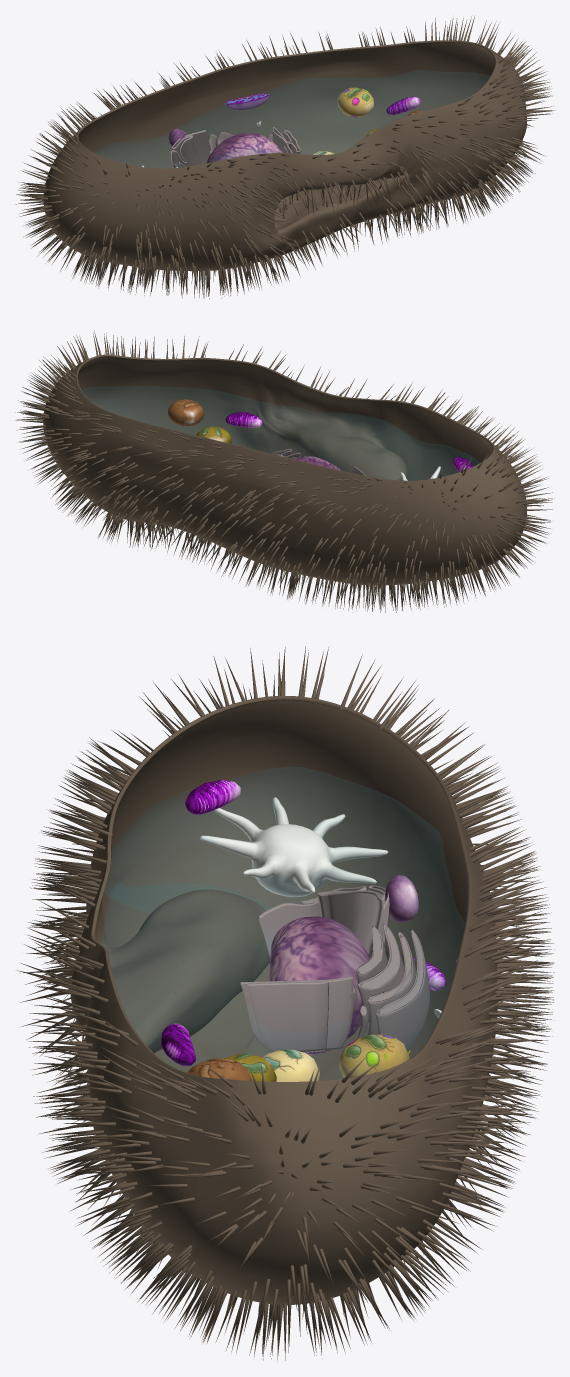
Rendered from optimized_paramecium.glb.
3 views of the same model, one above another, from view 1: azimuth 30°, elevation 25°; view 2: azimuth 150°, elevation 25°; view 3: azimuth 270°, elevation 25° (orthographic). The views are drawn at different scales.
Parts seen in each view (by area): view 1: pelikula, siller, pCube7, pasted__pasted__Amip_GER, macronukleus, besinKofulu1, Mitokondri6; view 2: pelikula, siller, pCube7, besinKofulu3, Mitokondri3, besinKofulu2; view 3: pelikula, siller, pCube7, pasted__pasted__Amip_GER, Kontraktil_Koful, pasted__Golgi_Aygıtı1, macronukleus, besinKofulu1, besinKofulu, Mitokondri7, micronukleus, Mitokondri3 (+1 smaller).
Boxes of the visible parts, x1=… form: pelikula: x1=43, y1=40, x2=526, y2=271; siller: x1=15, y1=16, x2=555, y2=299; pCube7: x1=95, y1=70, x2=489, y2=167; pasted__pasted__Amip_GER: x1=171, y1=127, x2=300, y2=167; macronukleus: x1=207, y1=132, x2=282, y2=163; besinKofulu1: x1=337, y1=87, x2=373, y2=117; Mitokondri6: x1=386, y1=96, x2=420, y2=114; pelikula: x1=43, y1=354, x2=527, y2=585; siller: x1=15, y1=330, x2=554, y2=612; pCube7: x1=82, y1=386, x2=479, y2=479; besinKofulu3: x1=167, y1=399, x2=204, y2=426; Mitokondri3: x1=225, y1=412, x2=262, y2=427; besinKofulu2: x1=196, y1=426, x2=231, y2=443; pelikula: x1=70, y1=695, x2=497, y2=1304; siller: x1=16, y1=646, x2=554, y2=1362; pCube7: x1=101, y1=767, x2=464, y2=1080; pasted__pasted__Amip_GER: x1=240, y1=885, x2=389, y2=1052; Kontraktil_Koful: x1=199, y1=797, x2=388, y2=897; pasted__Golgi_Aygıtı1: x1=349, y1=924, x2=429, y2=1049; macronukleus: x1=268, y1=916, x2=369, y2=1055; besinKofulu1: x1=339, y1=1034, x2=409, y2=1077; besinKofulu: x1=262, y1=1049, x2=319, y2=1081; Mitokondri7: x1=184, y1=780, x2=240, y2=814; micronukleus: x1=385, y1=874, x2=418, y2=922; Mitokondri3: x1=161, y1=1023, x2=195, y2=1065.
Bounding box in the file's own units: 3 × 1.01 × 1.38.
Materials: 11 (3 with a texture image).
